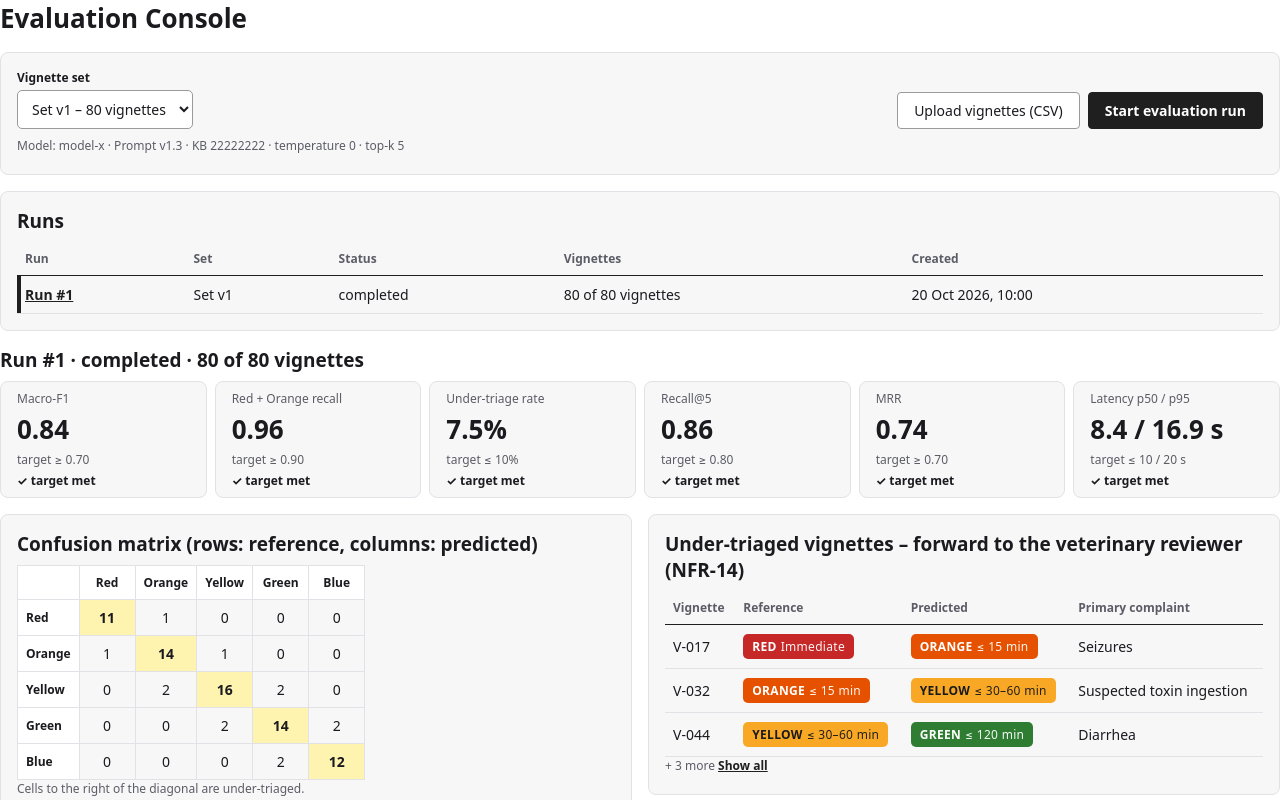
Test: starting a run (FR-65) › posts the chosen set, then opens the new run
This screenshot has width=1280, height=800.
Expected: the heading "Run #1 · completed · 80 of 80 vignettes" is shown, [0,347,364,373]
Click the button "Start evaluation run".
click(1175, 110)  # box [1088,92,1263,129]
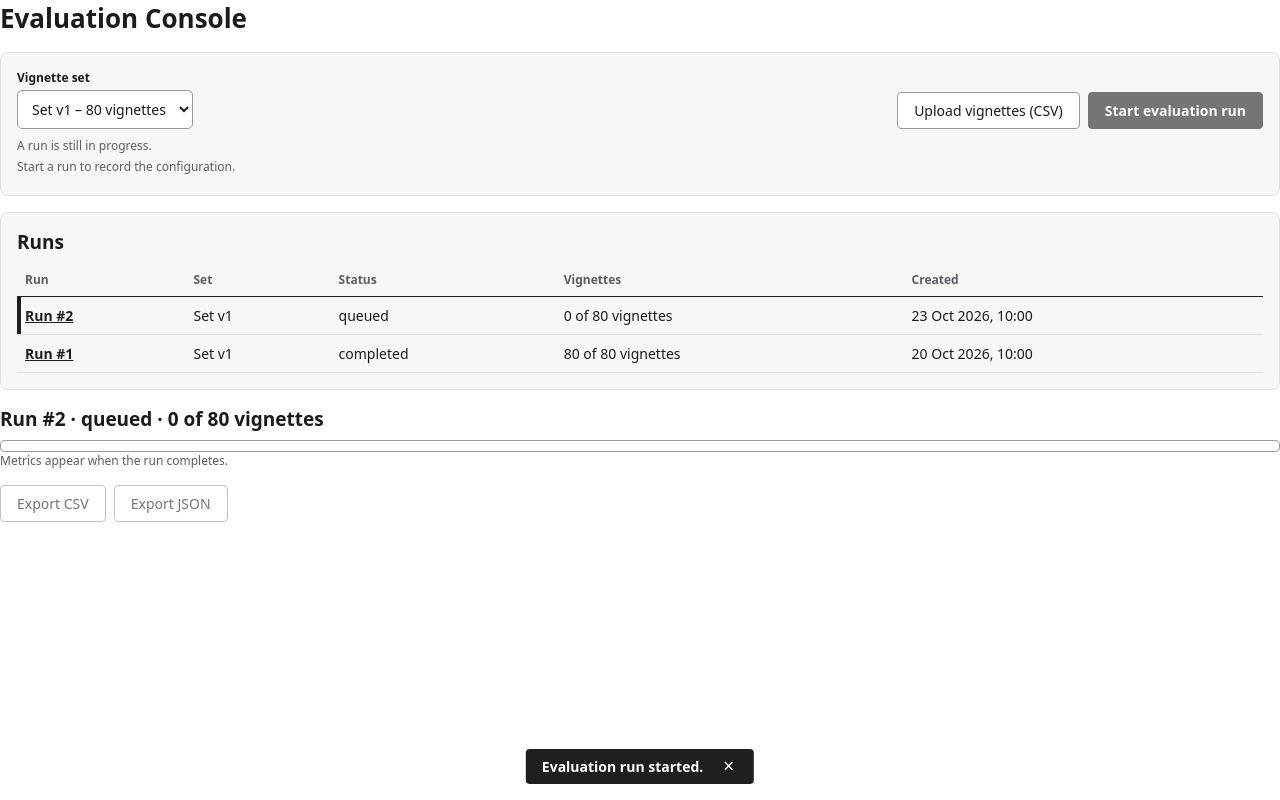
Expected: the heading "Run #2 · queued · 0 of 80 vignettes" is shown, [0,406,324,432]
Expected: the progress indicator is shown, [0,440,1279,452]
